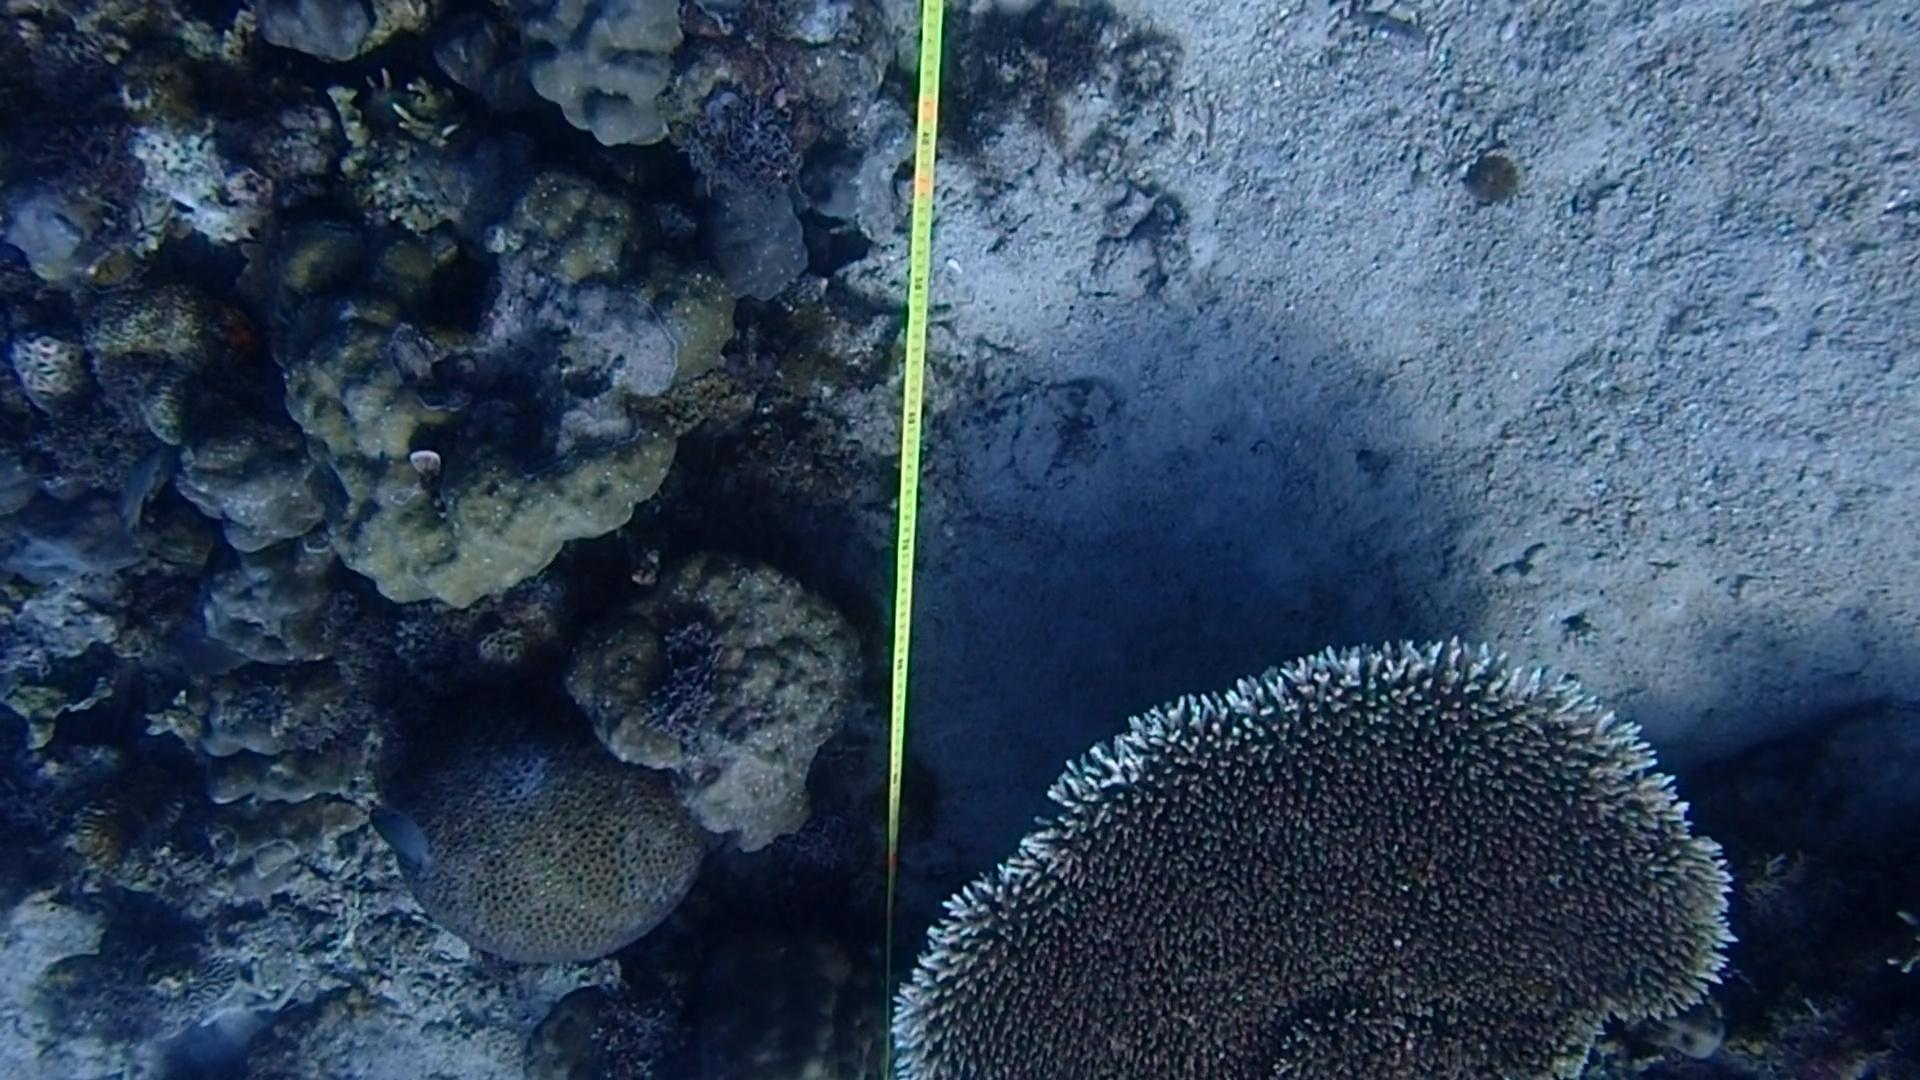Light Fish: (359, 795, 446, 880), (105, 448, 169, 545)
